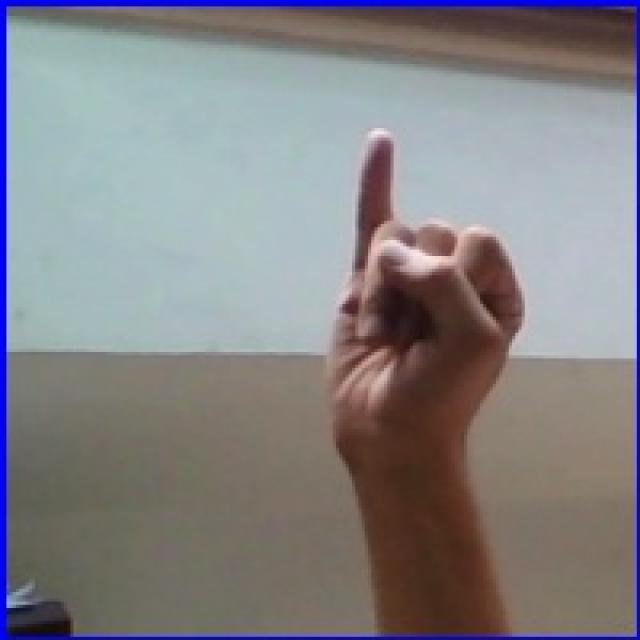Letra I: (294, 89, 558, 545)
